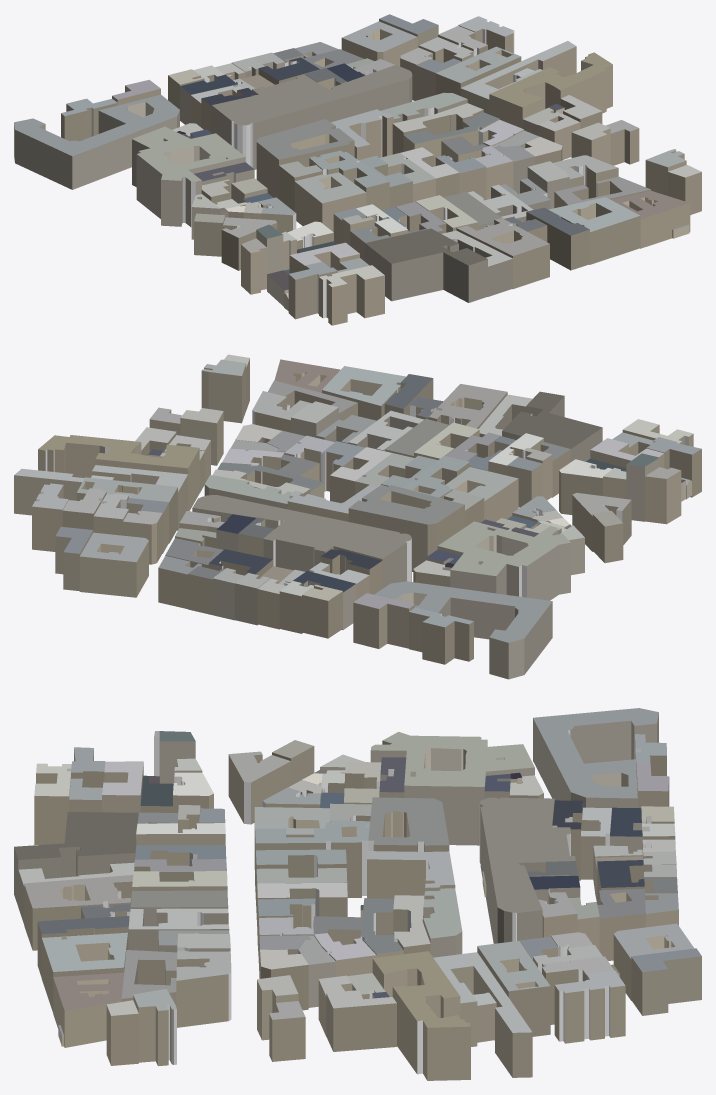
3 renders of one model, top to bottom at view 1: azimuth 30°, elevation 25°; view 2: azimuth 150°, elevation 25°; view 3: azimuth 270°, elevation 25°, orthographic. The views are drawn at different scales.
Visible parts, largest first — view 1: tuile; view 2: tuile; view 3: tuile.
Boxes of the visible parts, bbox=[...] form: tuile: bbox=[14, 14, 701, 325]; tuile: bbox=[14, 354, 701, 679]; tuile: bbox=[14, 708, 701, 1080].
Size of the model in its own units: 305 by 34.2 by 277.
